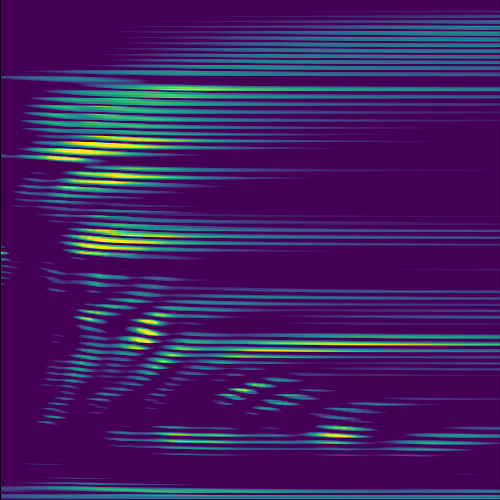semblance: (68, 303, 199, 372), (35, 126, 190, 166), (66, 219, 199, 260), (57, 161, 180, 194), (220, 375, 279, 403), (311, 418, 368, 444)
